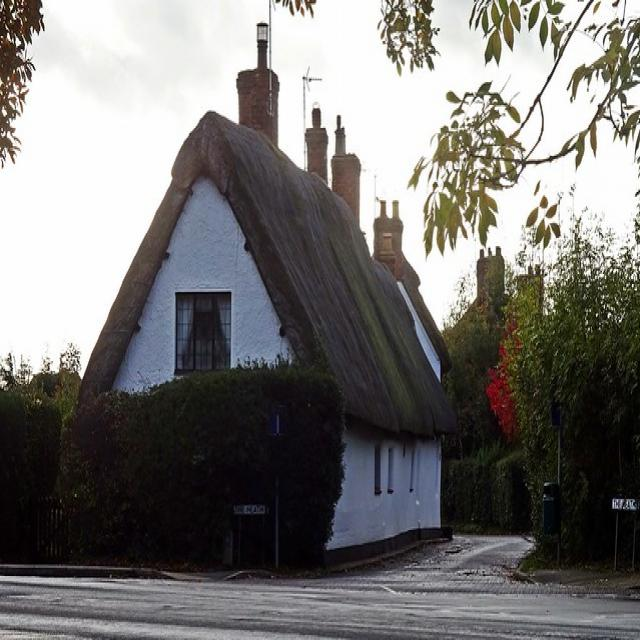Normal_building: (61, 50, 453, 577)
